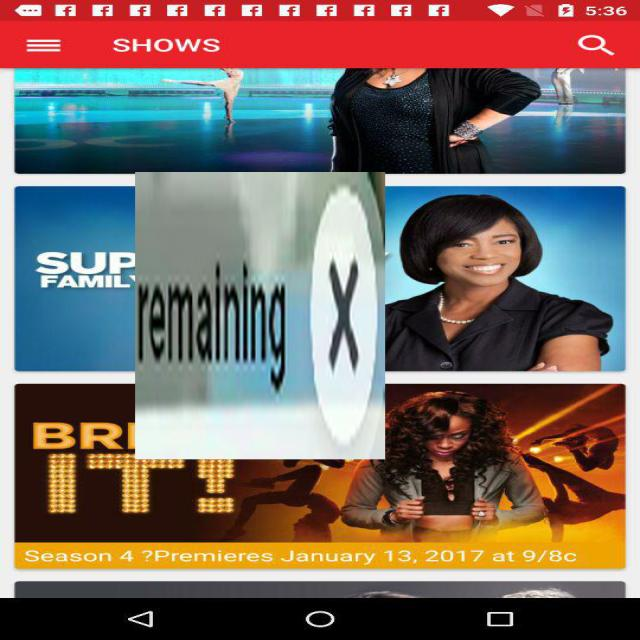misdirection: (135, 172, 385, 459)
